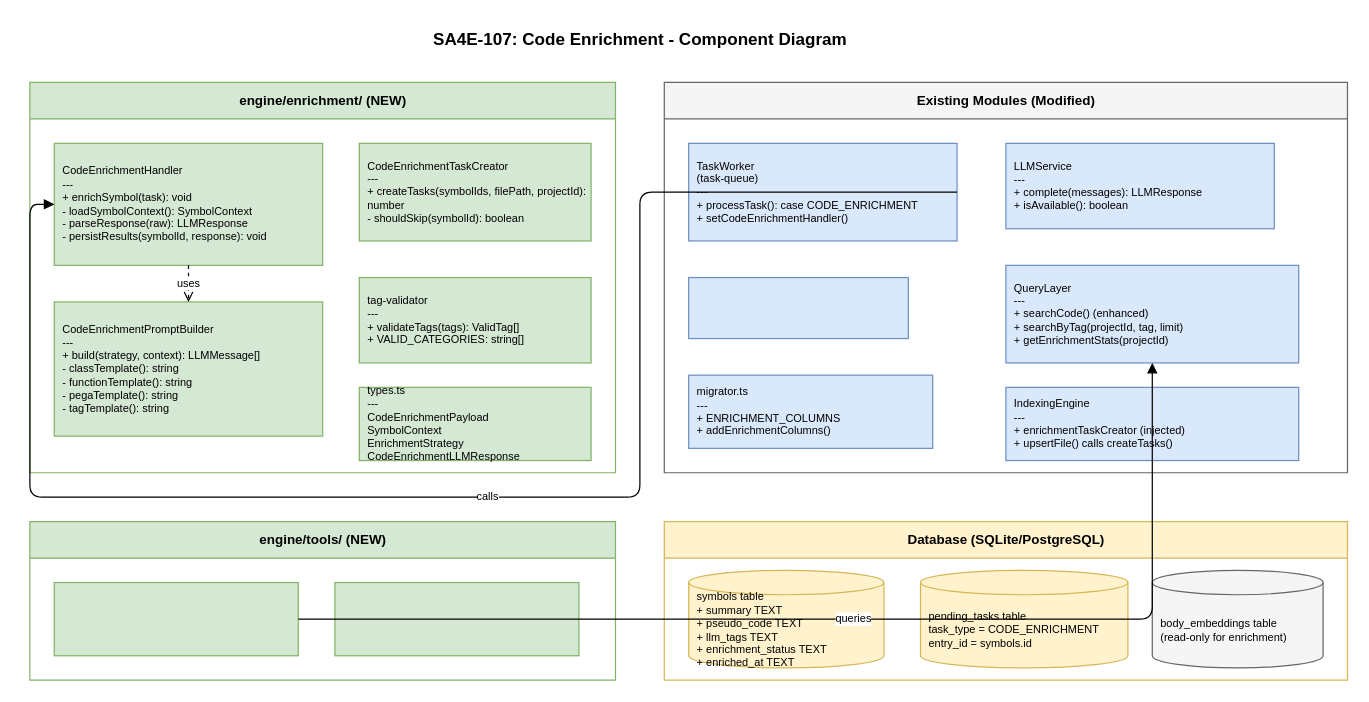
This 1369x702 diagram has some shape labels left out. Each missing label, with the centre of its shape:
"code-enrichment-stats.ts --- MCP Tool: code_enrichment_stats" belongs at pixel 456 618.
"code-search-by-tag.ts --- MCP Tool: code_search_by_tag" belongs at pixel 175 618.
"models.ts --- TaskType.CODE_ENRICHMENT" belongs at pixel 797 307.
